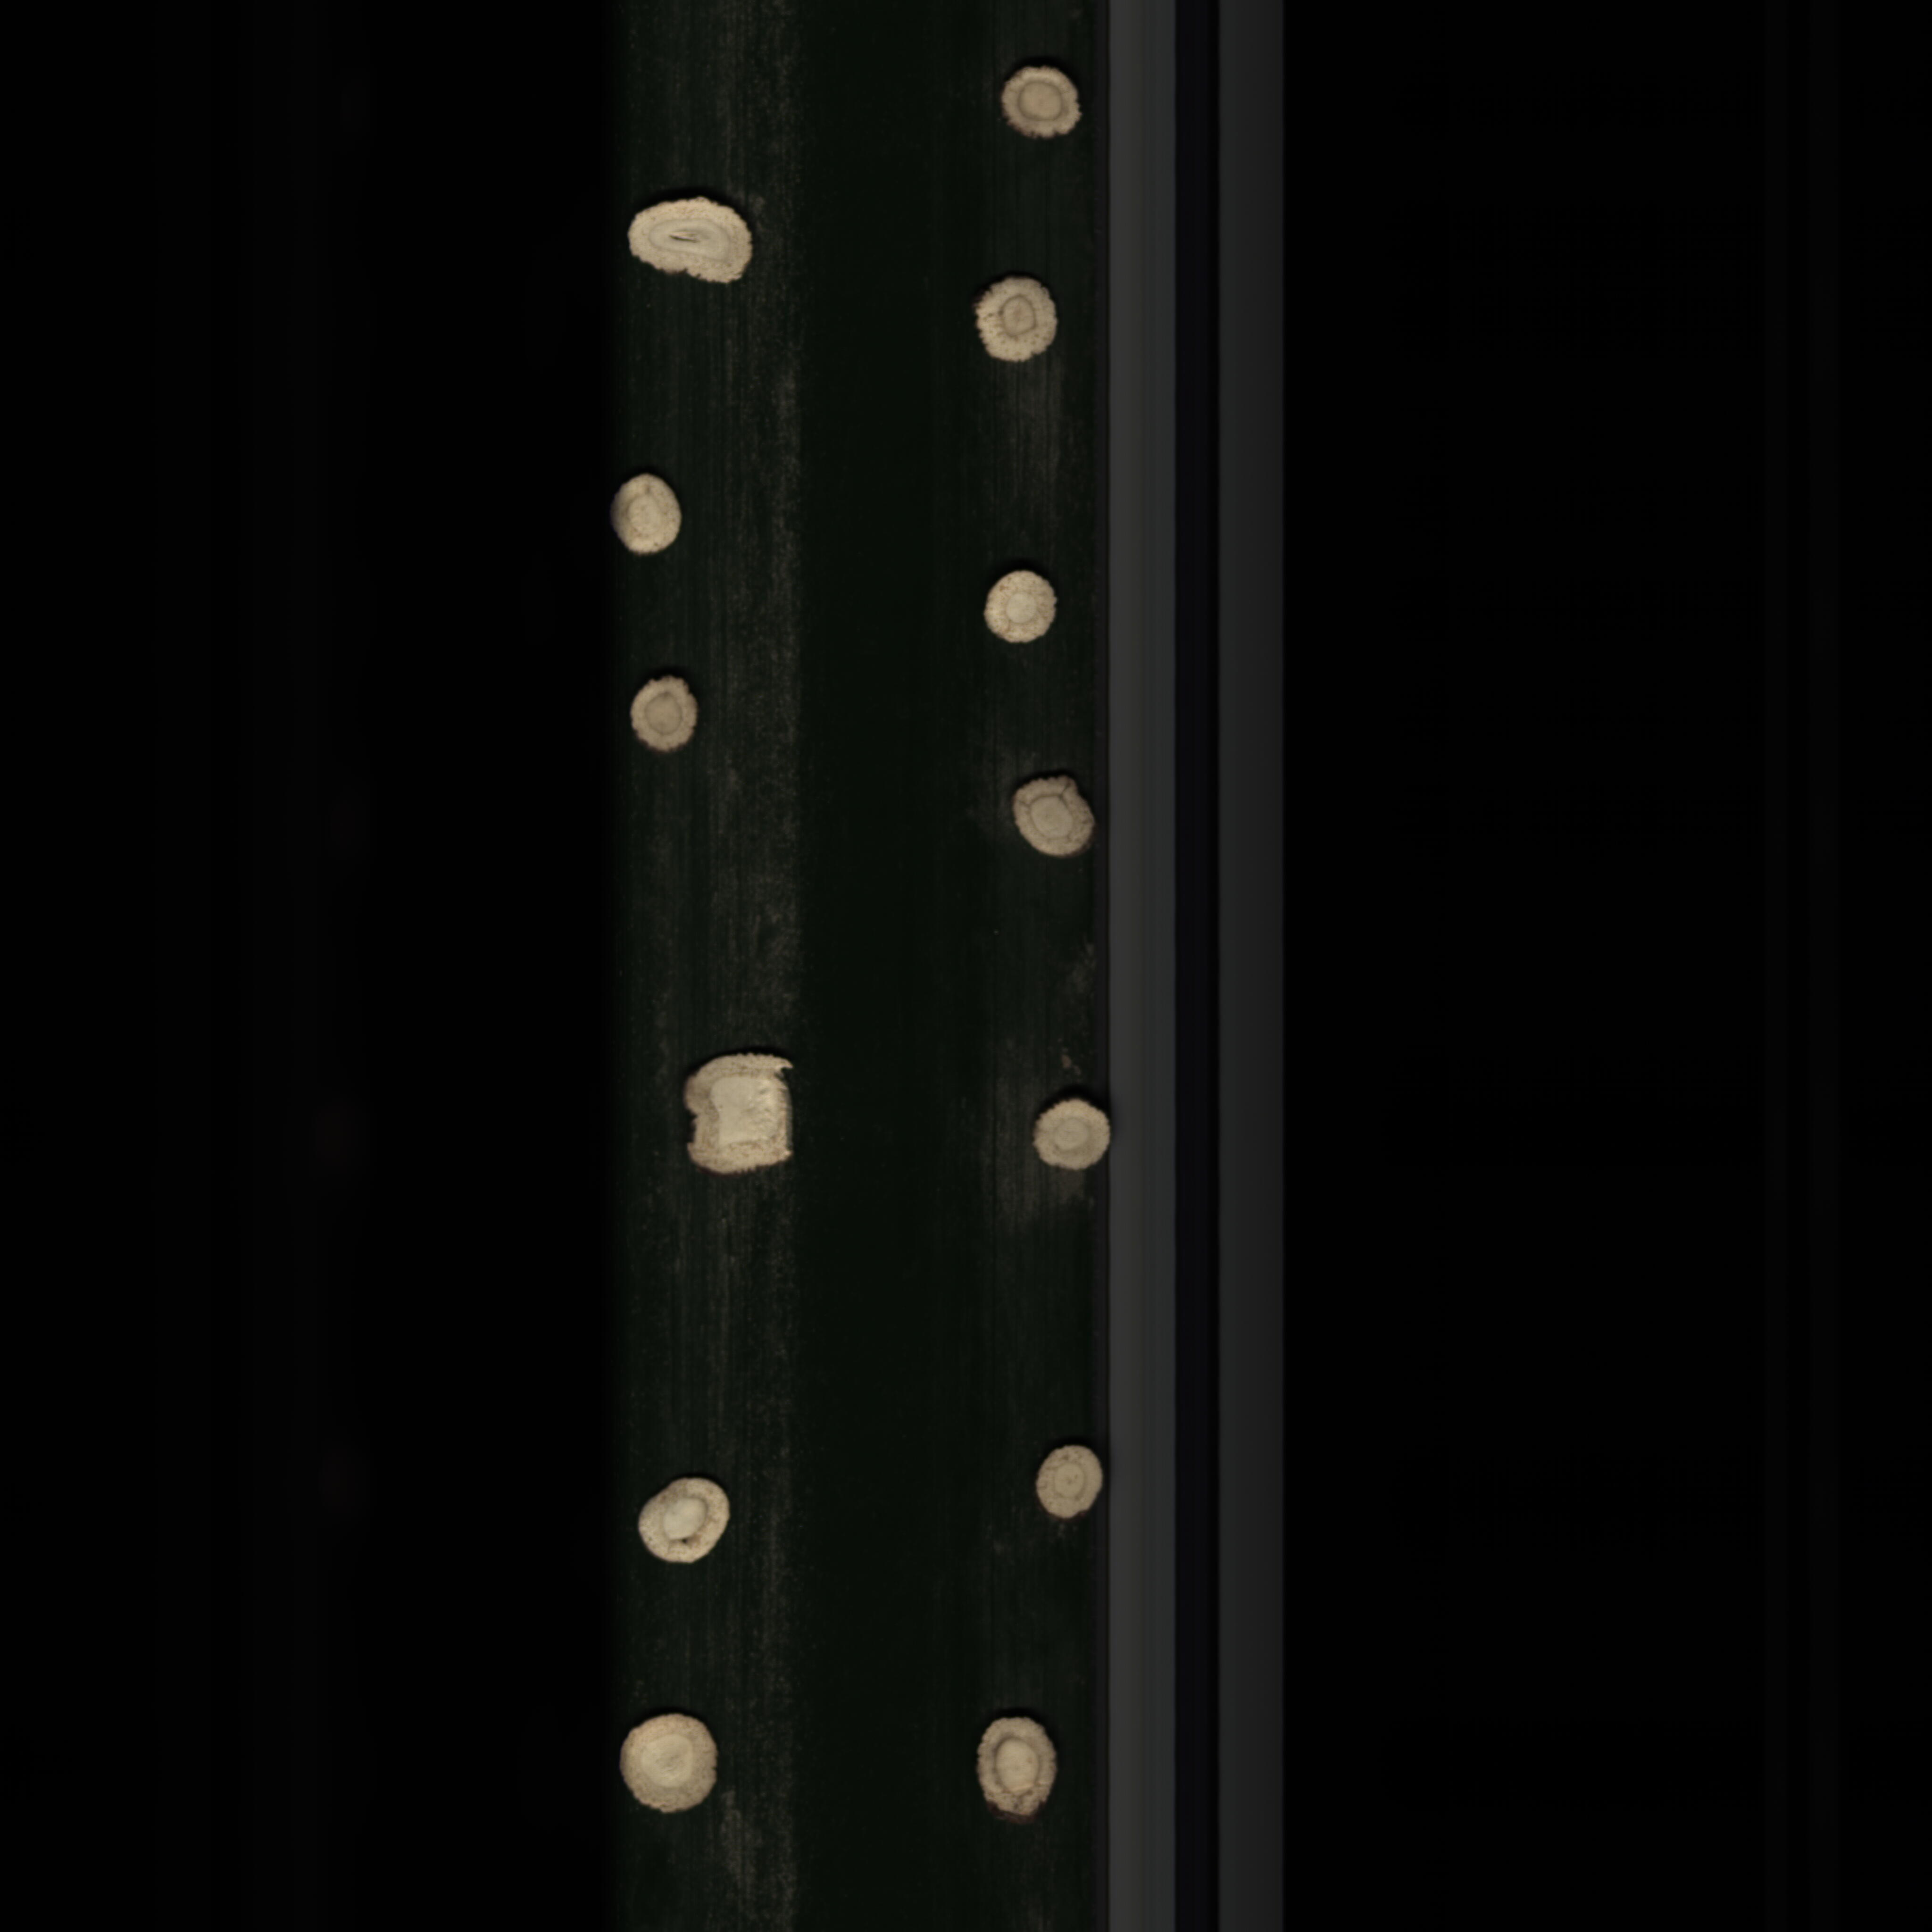debris: (681, 1049, 807, 1185)
moldy: (966, 1706, 1070, 1835), (991, 62, 1093, 143)
